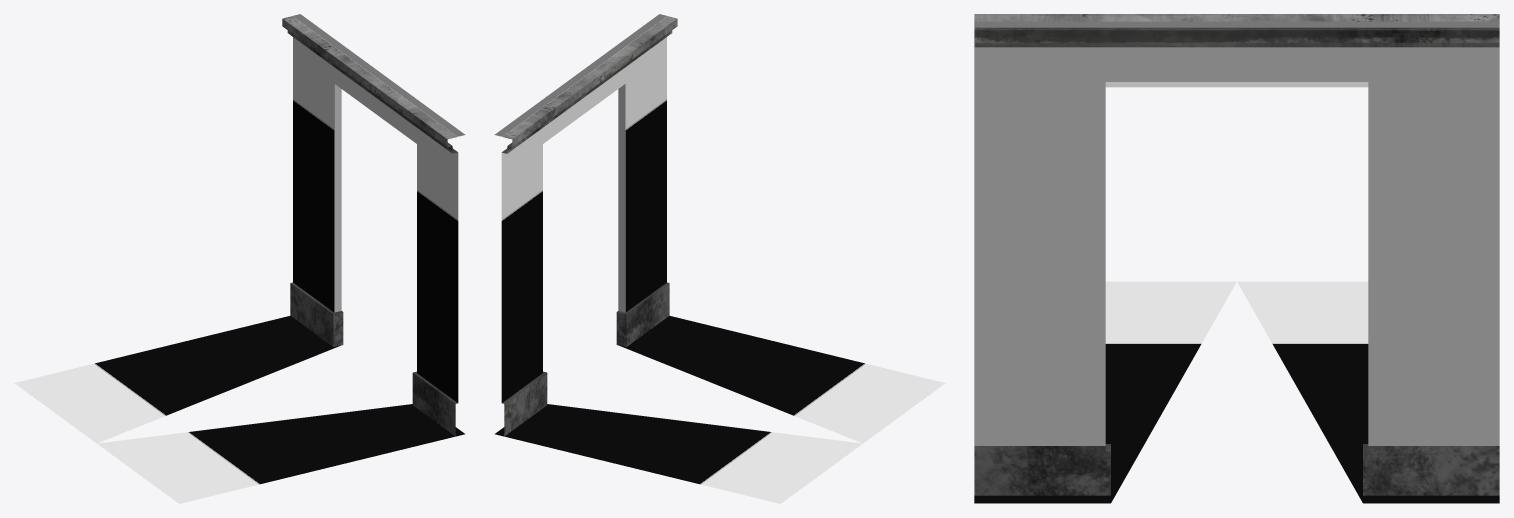
File: S_WallDoorA.fbx
The picture shows the model from 3 angles, left to right: view 1: azimuth 30°, elevation 25°; view 2: azimuth 150°, elevation 25°; view 3: azimuth 270°, elevation 25°; orthographic projection. The views are drawn at different scales.
Parts seen in each view (by area): view 1: S_WallDoorA; view 2: S_WallDoorA; view 3: S_WallDoorA.
Boxes of the visible parts, x1,y1,x2,y2 form: S_WallDoorA: (14,14,465,503); S_WallDoorA: (494,14,945,503); S_WallDoorA: (974,14,1499,503).
Size of the model in its own units: 78.74 by 78.74 by 78.78.
